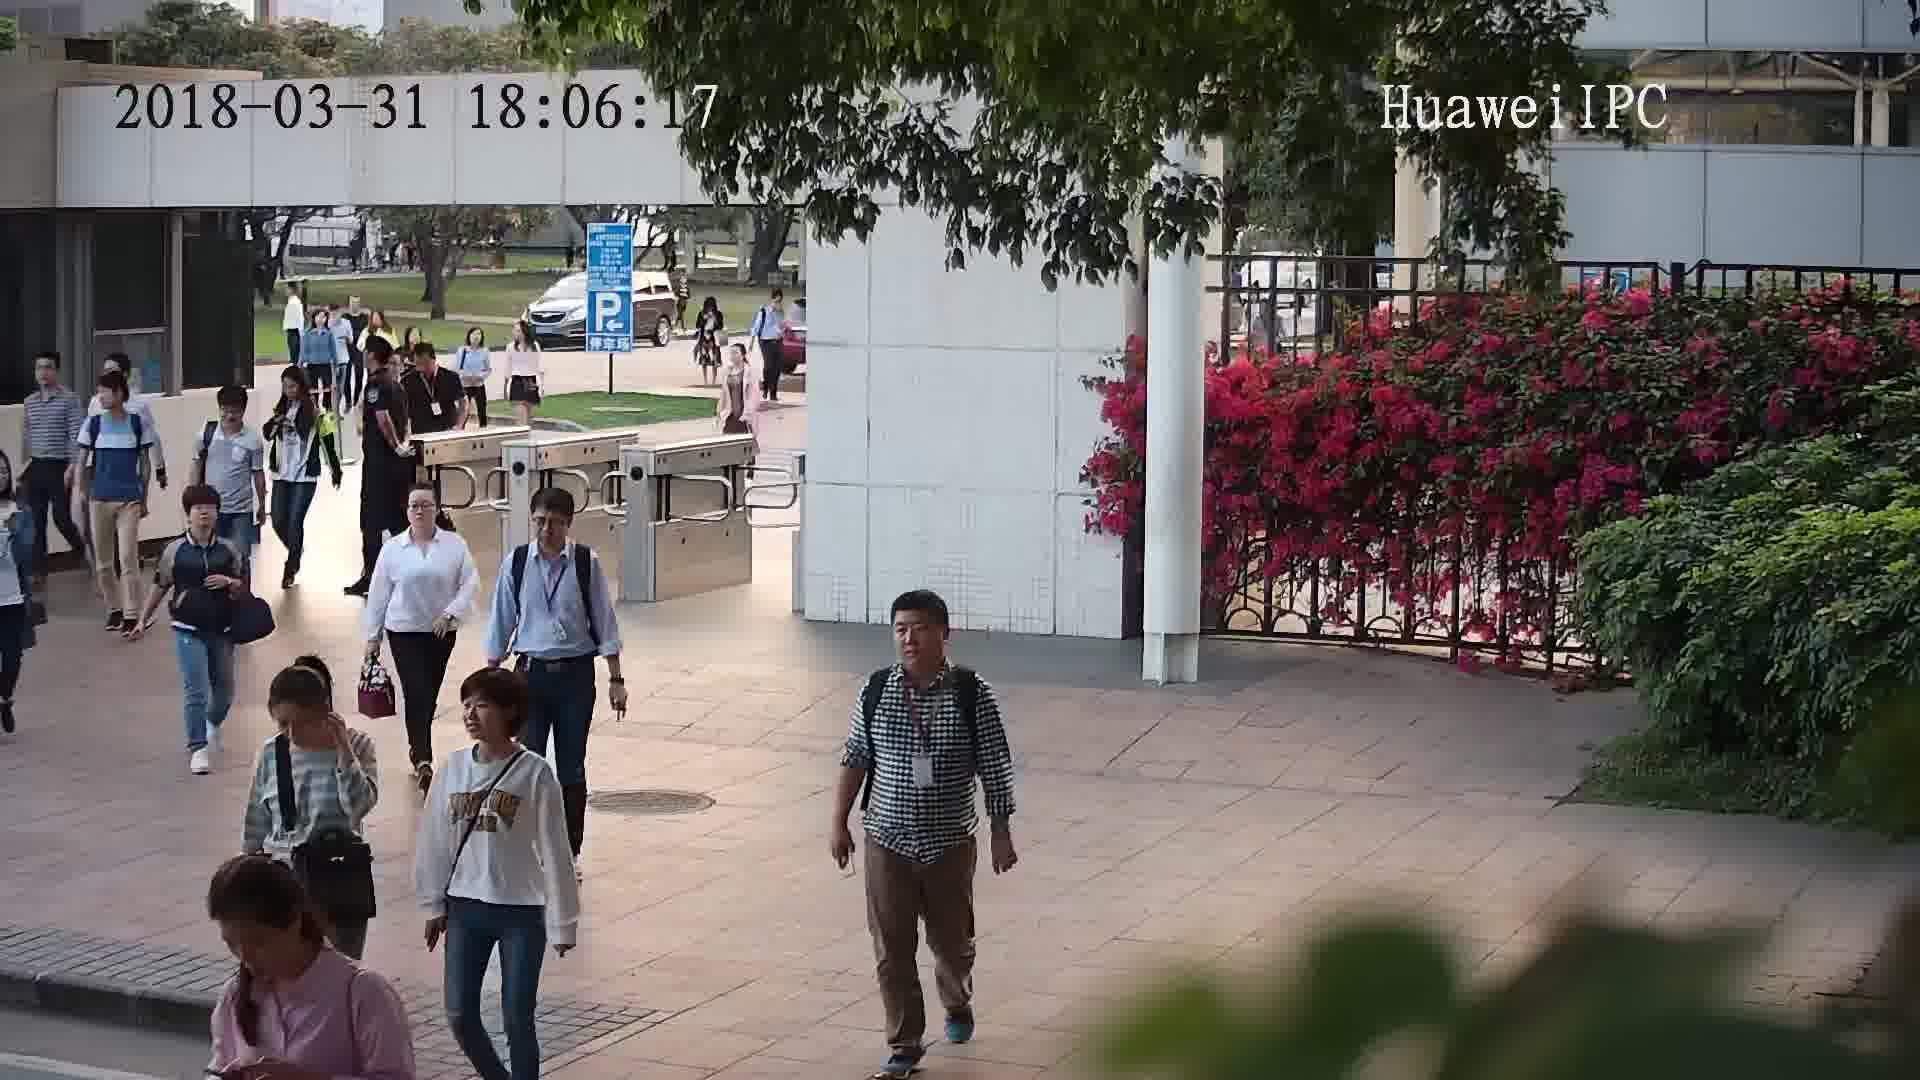face: (219, 911, 287, 979), (886, 609, 946, 669), (458, 688, 508, 738), (525, 504, 570, 550), (405, 481, 439, 537), (183, 496, 220, 532)
person: (202, 854, 401, 1028), (854, 585, 995, 722), (434, 665, 556, 788), (254, 659, 381, 772), (507, 486, 603, 580), (377, 478, 471, 557), (166, 481, 241, 566), (200, 380, 266, 444), (90, 367, 149, 436), (25, 348, 79, 410), (406, 335, 459, 394), (272, 363, 329, 417), (362, 335, 407, 397), (2, 445, 33, 530), (721, 336, 763, 384), (300, 301, 342, 343), (341, 292, 373, 332), (754, 286, 788, 322), (691, 291, 728, 325), (325, 297, 353, 338), (509, 321, 543, 355), (460, 325, 492, 361), (364, 306, 396, 343), (278, 275, 307, 311)
